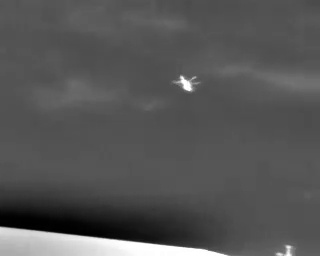HELICOPTER: (167, 70, 206, 98)
